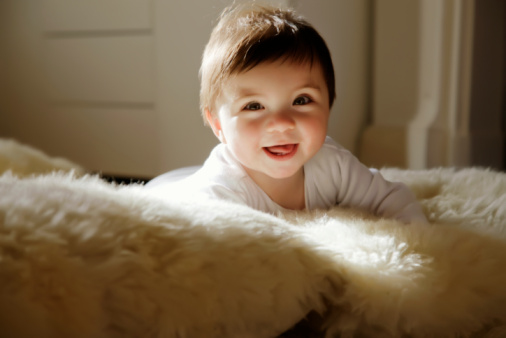deitado: (128, 5, 466, 313)
